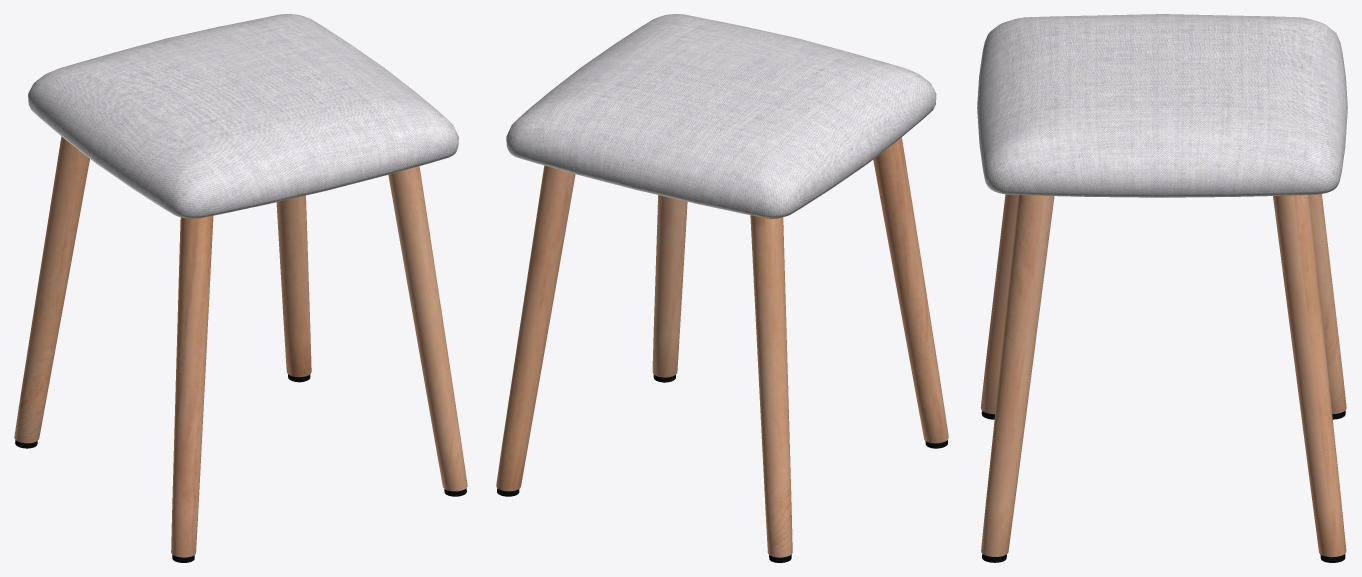
Rendered from abo-B07JJYXVF7.glb.
The picture shows the model from 3 angles, left to right: view 1: azimuth 30°, elevation 25°; view 2: azimuth 150°, elevation 25°; view 3: azimuth 270°, elevation 25°; orthographic projection. The views are drawn at different scales.
Bounding box in the file's own units: 0.35 × 0.44 × 0.35.
Materials: 1 (1 with a texture image).
